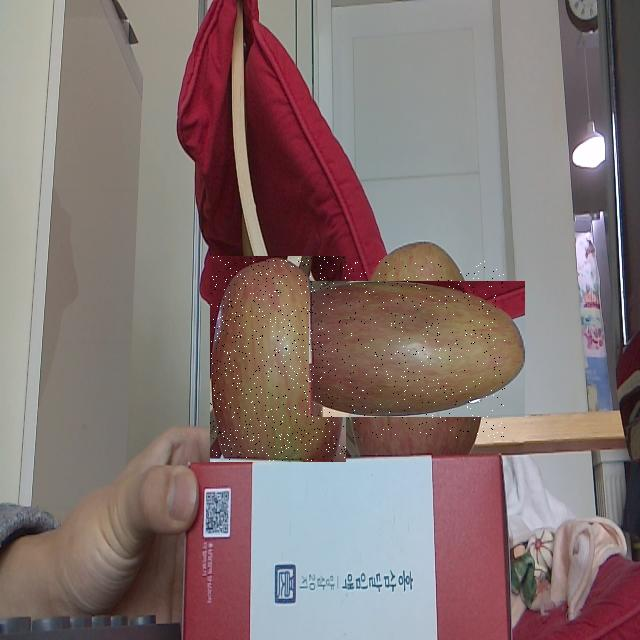apple: (329, 261, 505, 438), (210, 256, 346, 462)
